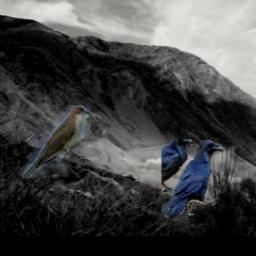Crow: (162, 139, 225, 220)
Cuckoo: (20, 106, 90, 179)
